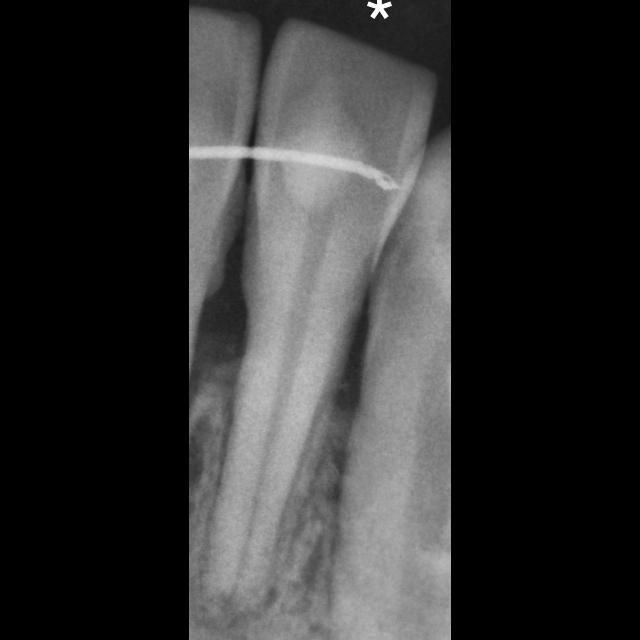tooth: (204, 17, 438, 613)
